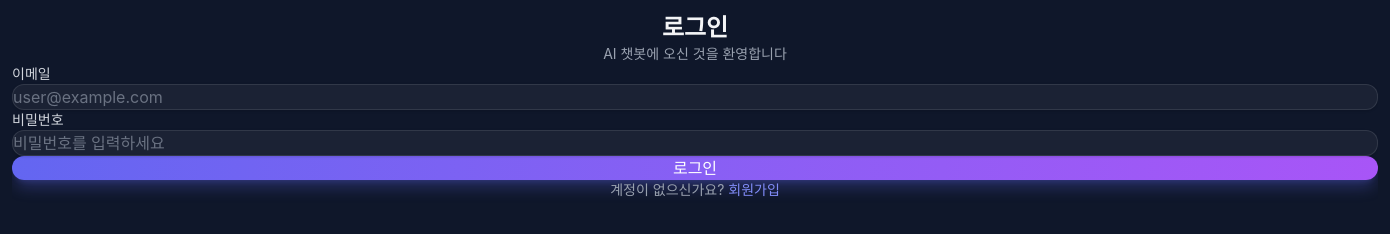
Test: LoginForm › 잘못된 이메일 형식이면 에러를 표시한다
Type "invalid-email" into the field labelled "이메일" at [695, 97], box [12,84,1378,110]
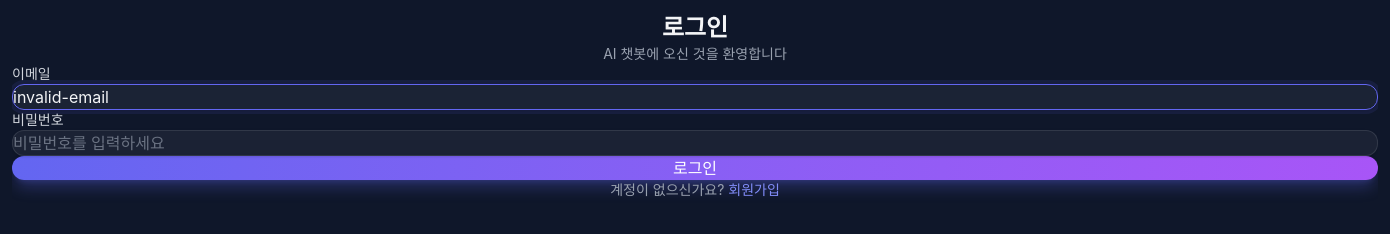
Type "password123" into the password field labelled "비밀번호" at [695, 143], box [12,130,1378,156]
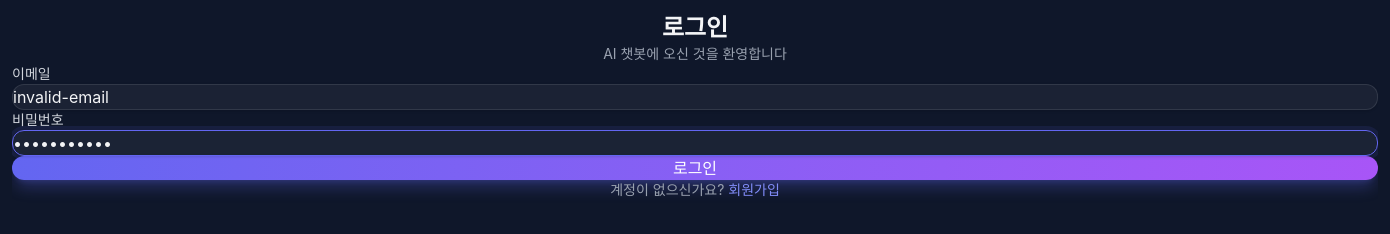
Submit the form labelled "이메일"
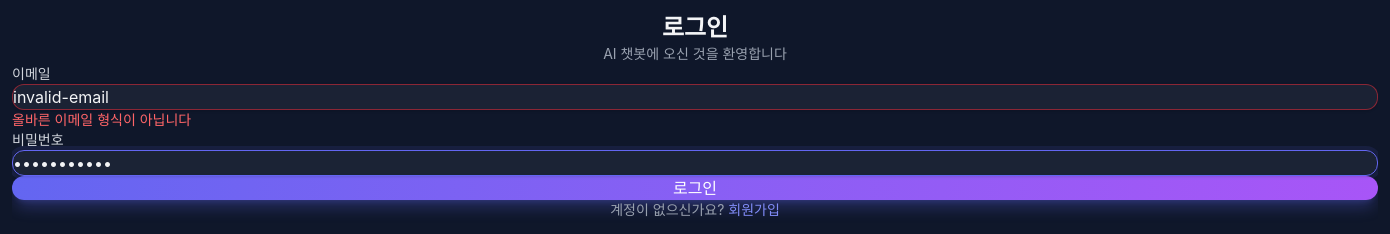
Result: the text "올바른 이메일 형식이 아닙니다" is shown at [12,111,191,128]
